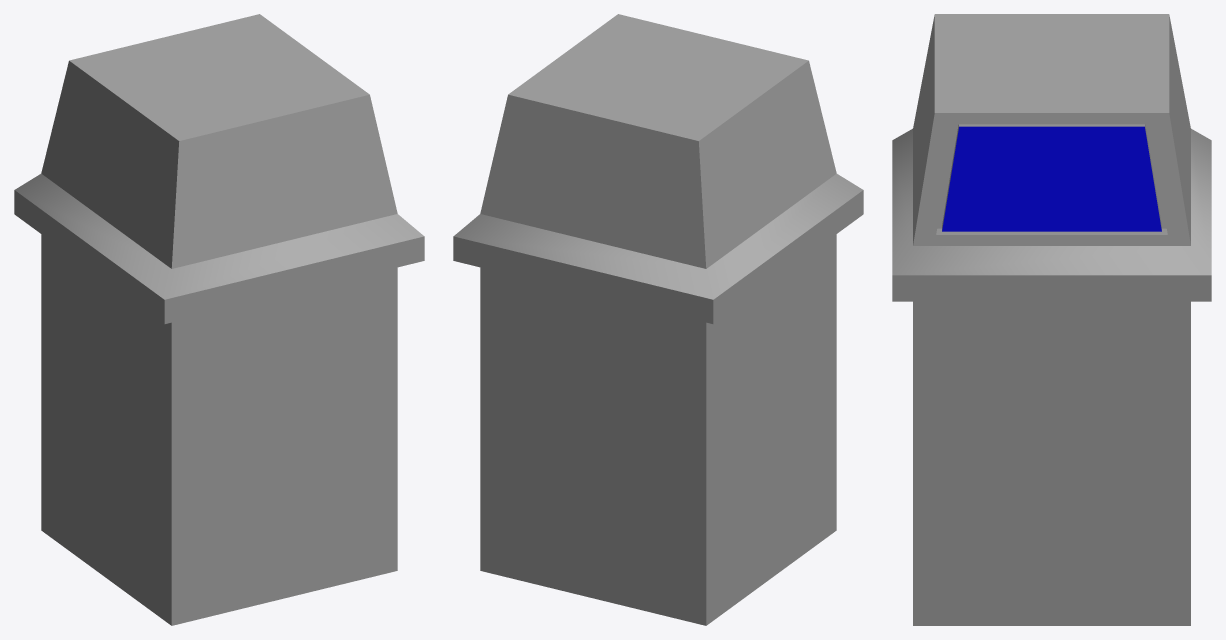
Rendered from garbage_can.fbx.
The picture shows the model from 3 angles, left to right: view 1: azimuth 30°, elevation 25°; view 2: azimuth 150°, elevation 25°; view 3: azimuth 270°, elevation 25°; orthographic projection. The views are drawn at different scales.
Visible parts, largest first — view 1: garbageCan; view 2: garbageCan; view 3: garbageCan.
Part boxes in pixels (box(x1,y1,x2,y2)): garbageCan: box(14, 14, 424, 625); garbageCan: box(453, 14, 863, 625); garbageCan: box(892, 14, 1211, 625).
Size of the model in its own units: 63.25 by 110 by 63.25.
